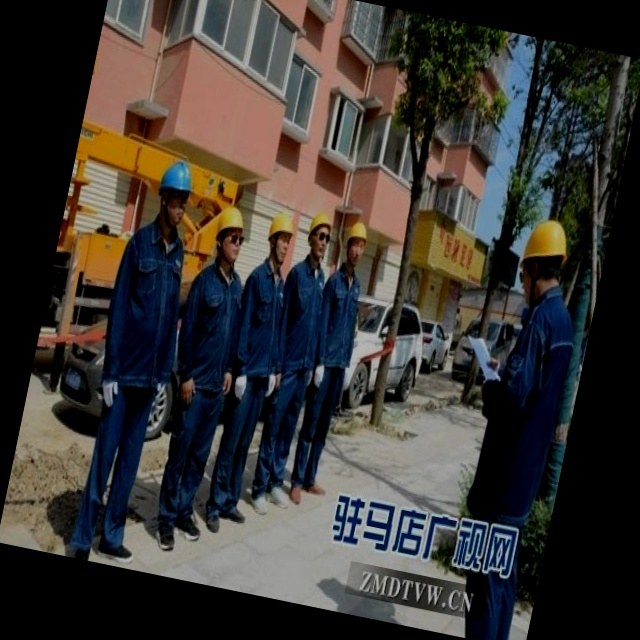Sin_Chaleco: (96, 220, 197, 395), (167, 256, 252, 396)
